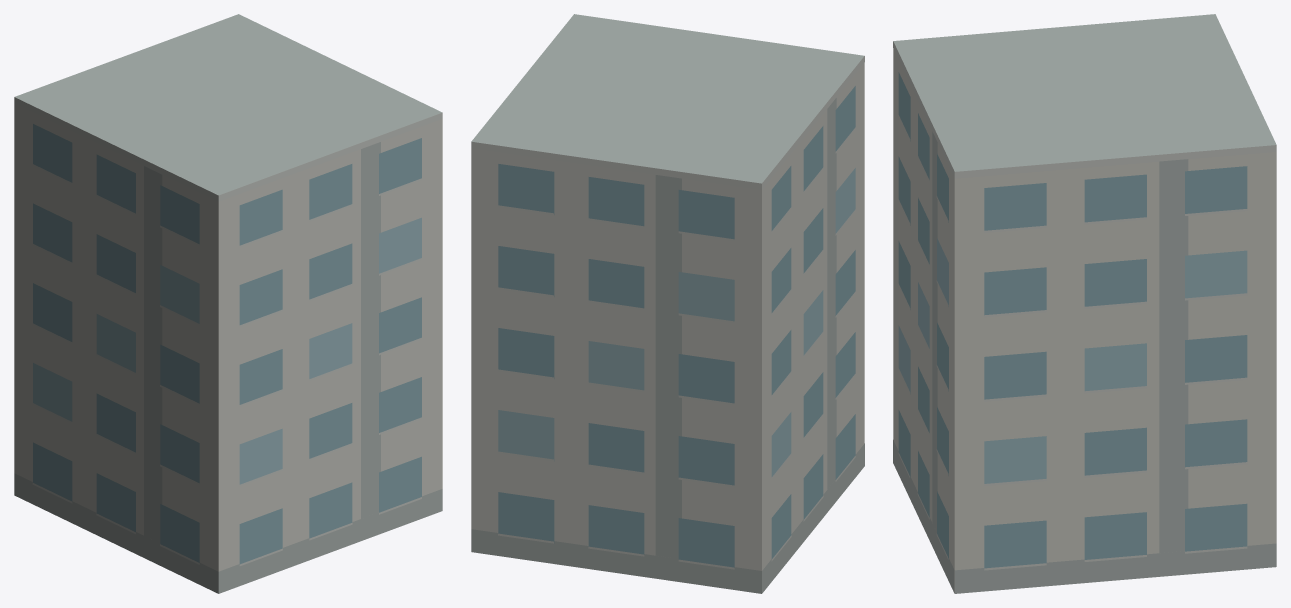
File: residential-0f55719e-a1de-4936-a314-c670f805867e.glb
3 views of the same model, side by side, from view 1: azimuth 30°, elevation 25°; view 2: azimuth 150°, elevation 25°; view 3: azimuth 270°, elevation 25° (orthographic). The views are drawn at different scales.
Parts seen in each view (by area): view 1: residential-0f55719e-a1de-4936-a314-c670f805867e.tmp; view 2: residential-0f55719e-a1de-4936-a314-c670f805867e.tmp; view 3: residential-0f55719e-a1de-4936-a314-c670f805867e.tmp.
Part boxes in pixels (<box>): residential-0f55719e-a1de-4936-a314-c670f805867e.tmp: <box>14,14,442,593</box>; residential-0f55719e-a1de-4936-a314-c670f805867e.tmp: <box>471,14,864,593</box>; residential-0f55719e-a1de-4936-a314-c670f805867e.tmp: <box>893,14,1276,593</box>.
Size of the model in its own units: 12.24 by 15.25 by 12.57.
